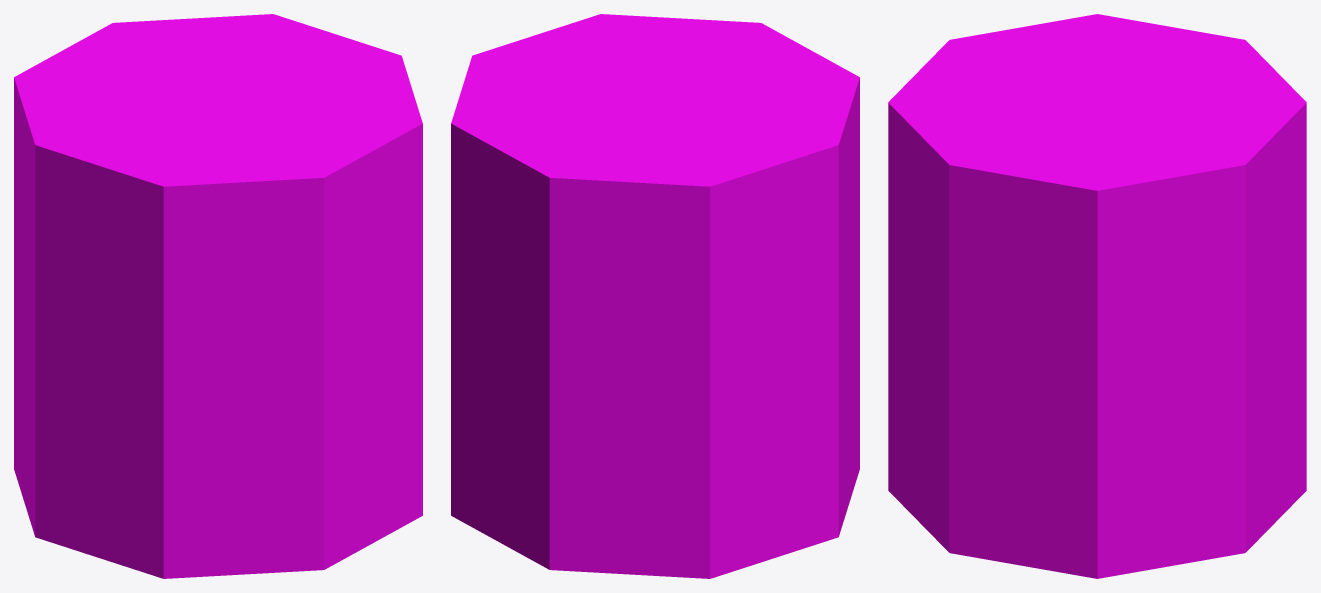
File: scrub_small.dae
The picture shows the model from 3 angles, left to right: view 1: azimuth 30°, elevation 25°; view 2: azimuth 150°, elevation 25°; view 3: azimuth 270°, elevation 25°; orthographic projection.
Parts seen in each view (by area): view 1: Colmesh_scrub-1; view 2: Colmesh_scrub-1; view 3: Colmesh_scrub-1.
Boxes of the visible parts, x1,y1,x2,y2 form: Colmesh_scrub-1: (14, 14, 422, 578); Colmesh_scrub-1: (451, 14, 859, 578); Colmesh_scrub-1: (888, 14, 1306, 578).
Size of the model in its own units: 0.44 by 0.44 by 0.4537.
